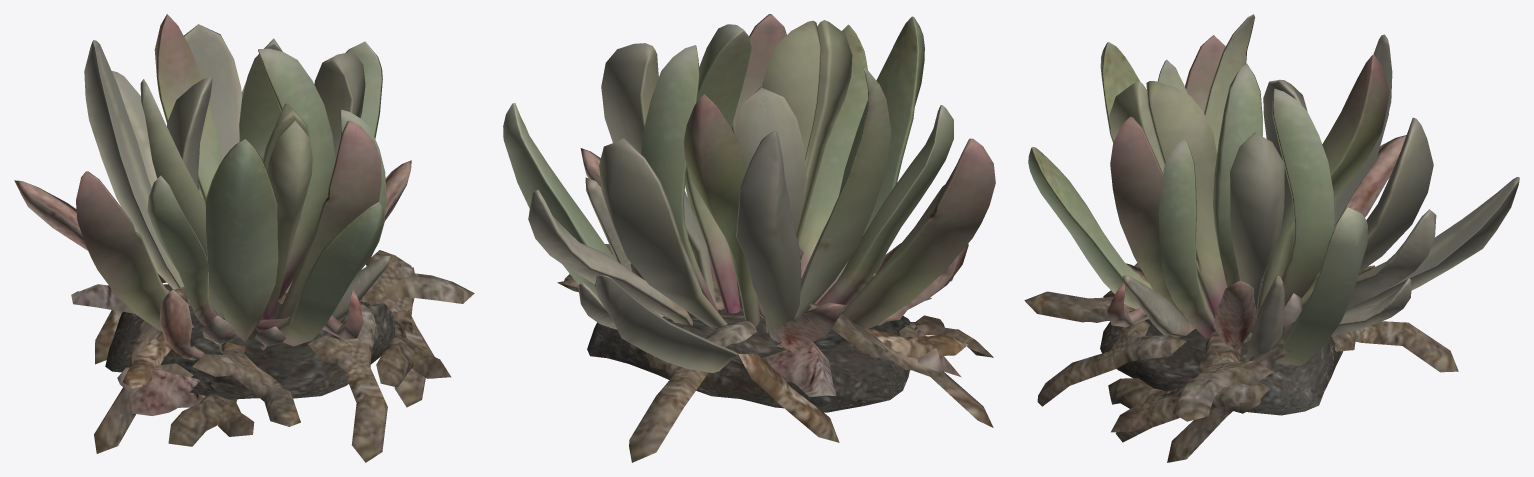
The model's file is cheiridopsis_succulent_e.gltf.
3 views of the same model, side by side, from view 1: azimuth 30°, elevation 25°; view 2: azimuth 150°, elevation 25°; view 3: azimuth 270°, elevation 25° (orthographic). The views are drawn at different scales.
Parts seen in each view (by area): view 1: cheiridopsis_succulent_c_LOD0; view 2: cheiridopsis_succulent_c_LOD0; view 3: cheiridopsis_succulent_c_LOD0.
Part boxes in pixels (x1,y1,x2,y2): cheiridopsis_succulent_c_LOD0: (14,14,474,462); cheiridopsis_succulent_c_LOD0: (503,14,995,462); cheiridopsis_succulent_c_LOD0: (1024,14,1519,462).
Bounding box in the file's own units: 0.2382 × 0.1971 × 0.2622.
Materials: 1 (1 with a texture image).
